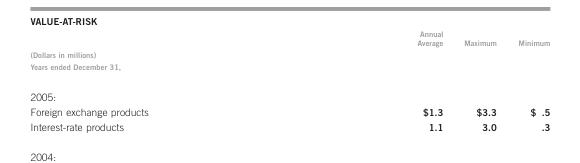table: (29, 28, 549, 131)
table column: (29, 28, 282, 131), (282, 28, 452, 131), (452, 28, 506, 131), (506, 28, 549, 131)
table column header: (29, 28, 549, 48)
table projected row header: (29, 80, 549, 103), (29, 60, 549, 80), (29, 48, 549, 60)
table row: (29, 80, 549, 103), (29, 28, 549, 48), (29, 60, 549, 80), (29, 103, 549, 118), (29, 118, 549, 131), (29, 48, 549, 60)
